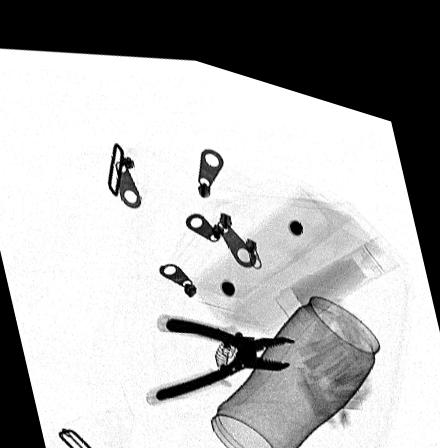Pliers: (156, 307, 294, 390)
